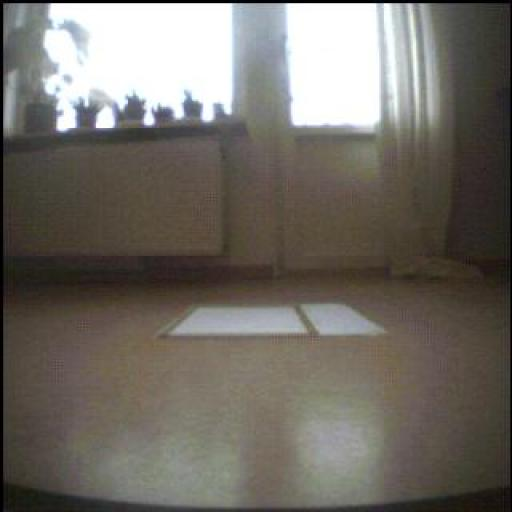Pad: (152, 304, 402, 338)
